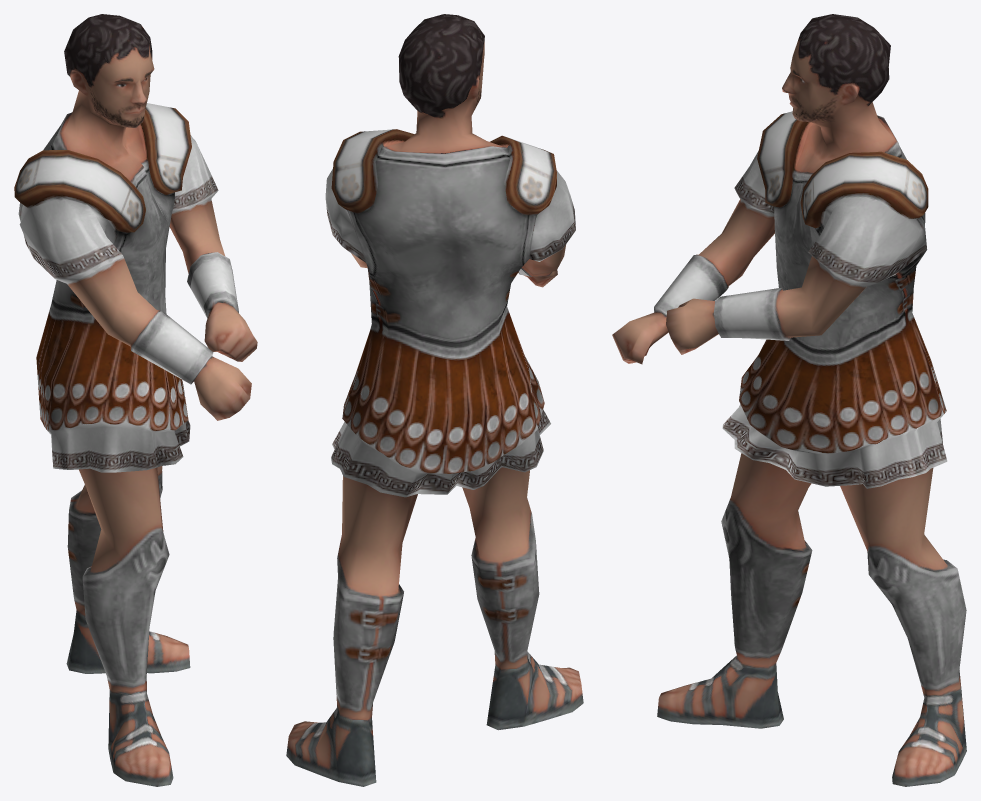
File: body-championarchers.glb
The picture shows the model from 3 angles, left to right: view 1: azimuth 30°, elevation 25°; view 2: azimuth 150°, elevation 25°; view 3: azimuth 270°, elevation 25°; orthographic projection. The views are drawn at different scales.
Bounding box in the file's own units: 0.6452 × 2.06 × 0.9298.
Materials: 1 (1 with a texture image).
